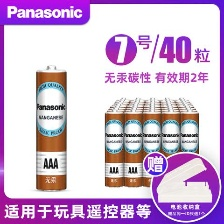battery: (31, 62, 73, 195), (170, 107, 200, 193), (117, 109, 144, 190), (155, 108, 181, 190), (103, 108, 126, 190), (141, 109, 163, 189)
plastic_box: (152, 155, 218, 207)
